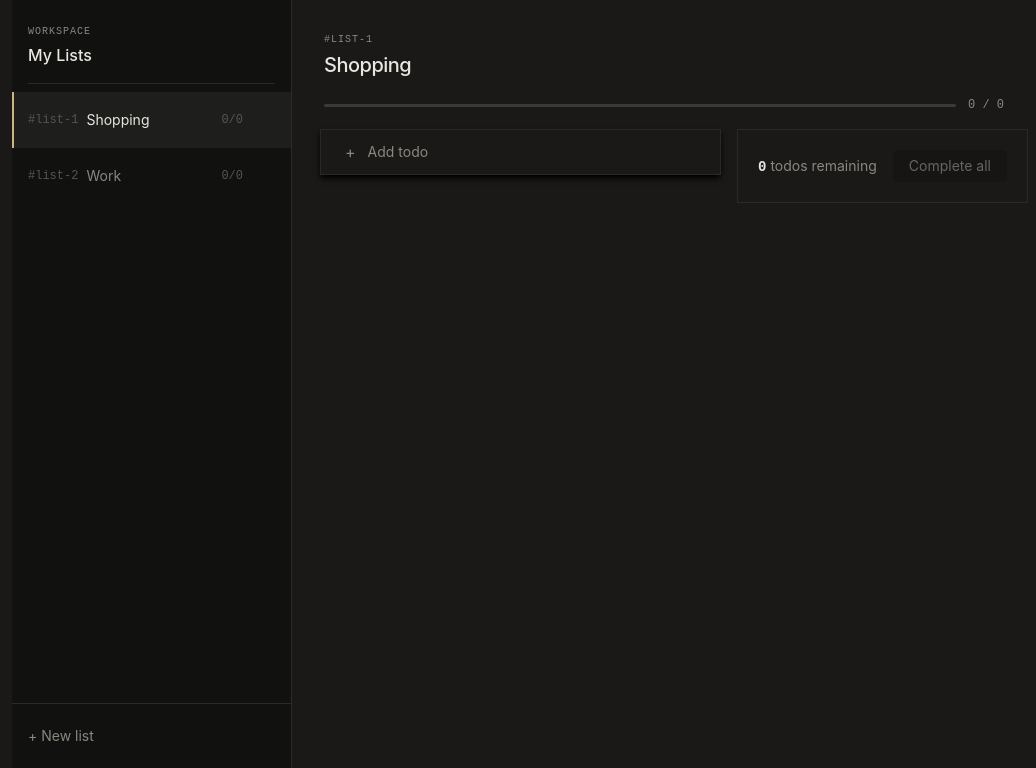
Test case: Dashboard › selecting a different list via the Sidebar › renders the heading for the newly selected list
Expected: the heading "Shopping" is shown, [324,51,411,79]
// Click Work in the sidebar
Click the button "#list-2 Work 0/0" at [136, 176], box [12,156,259,196]
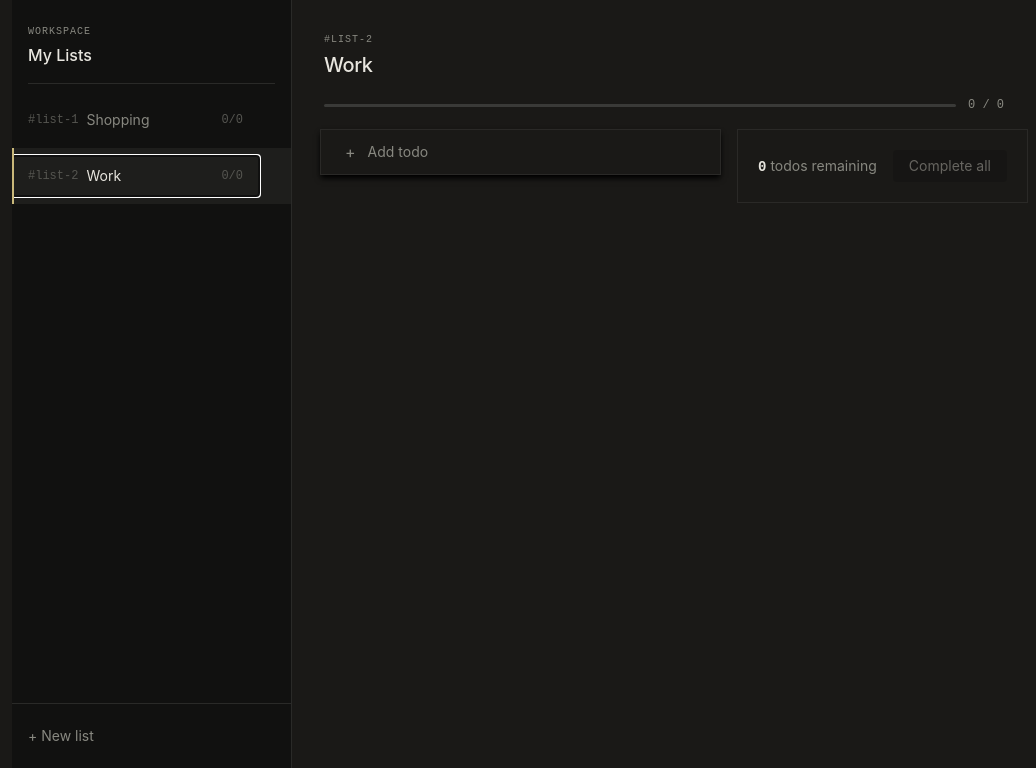
Now the heading "Work" is shown, box [324,51,372,79]
